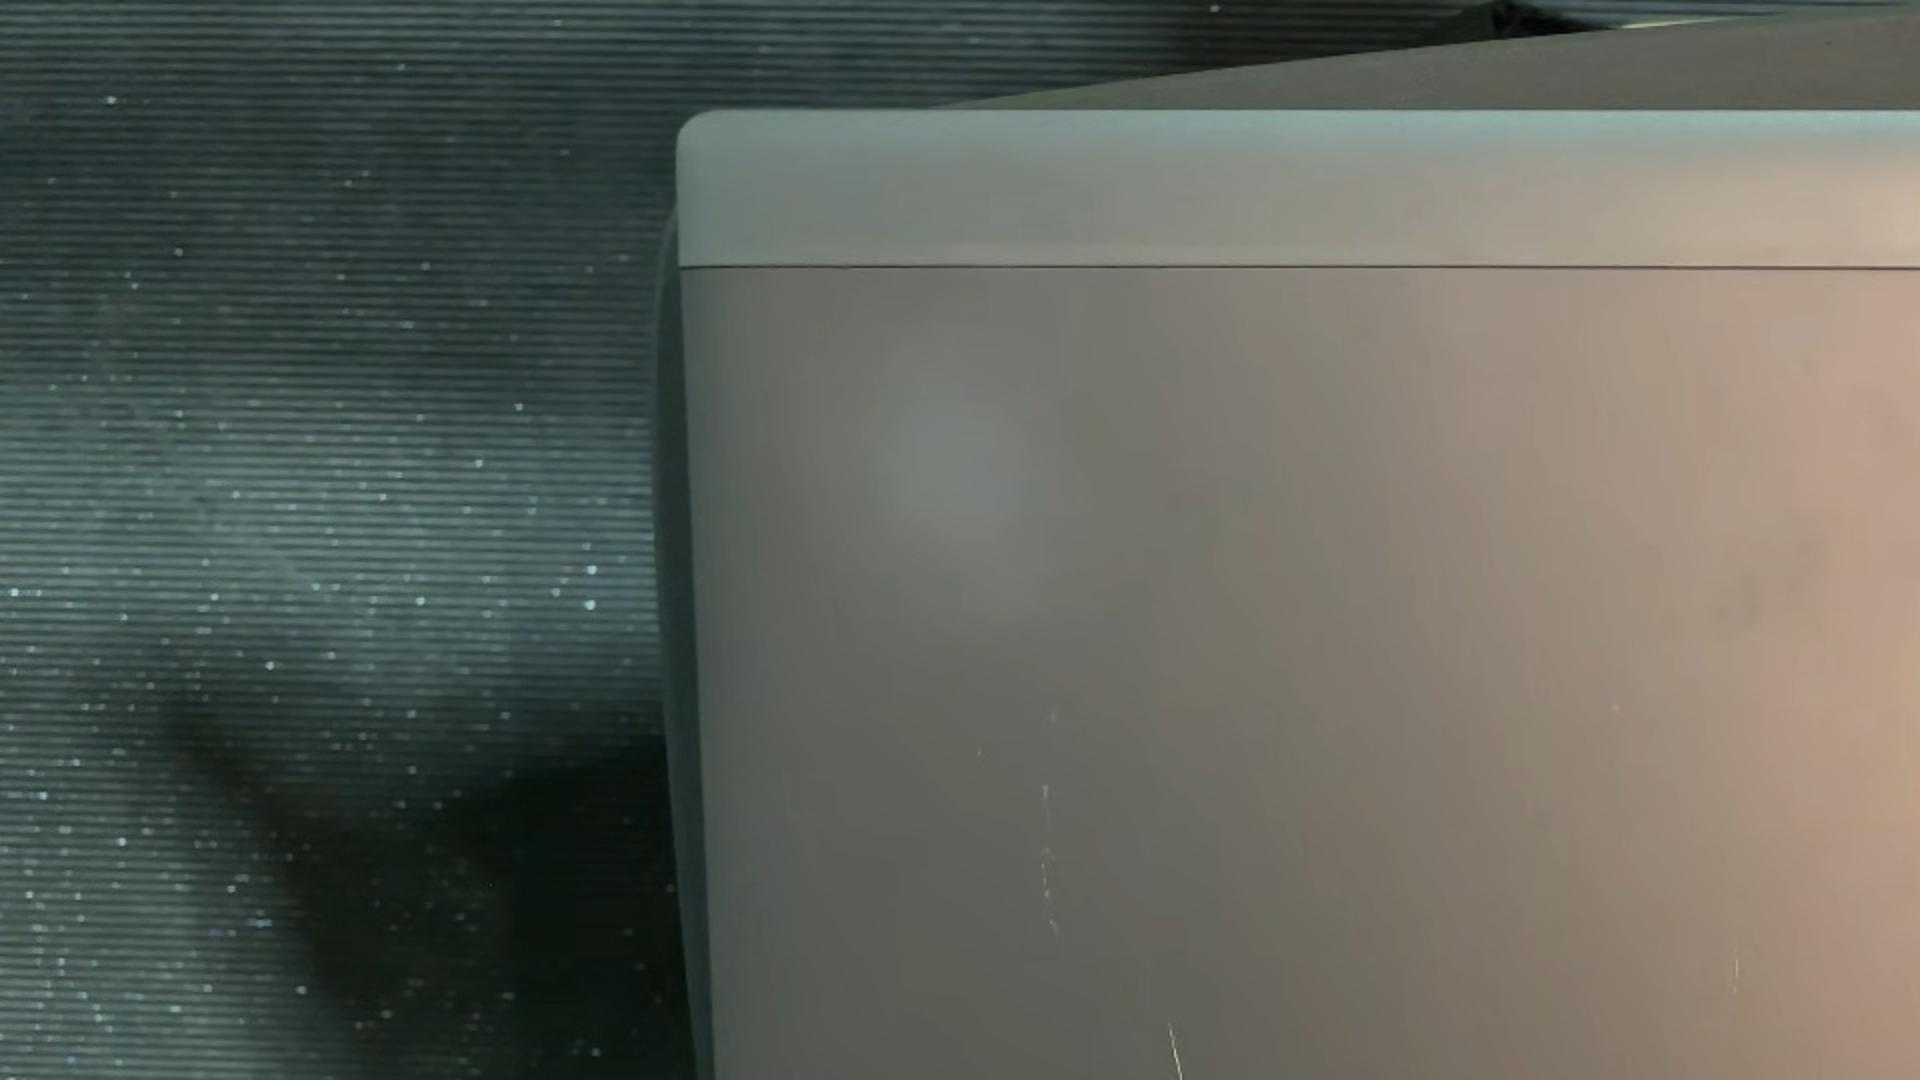scratches: (1038, 786, 1062, 938), (1166, 1023, 1188, 1080), (1731, 953, 1741, 996)
